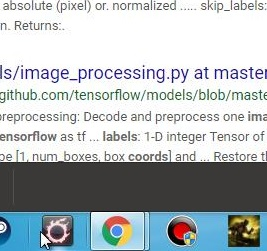cursor: (38, 229, 52, 250)
